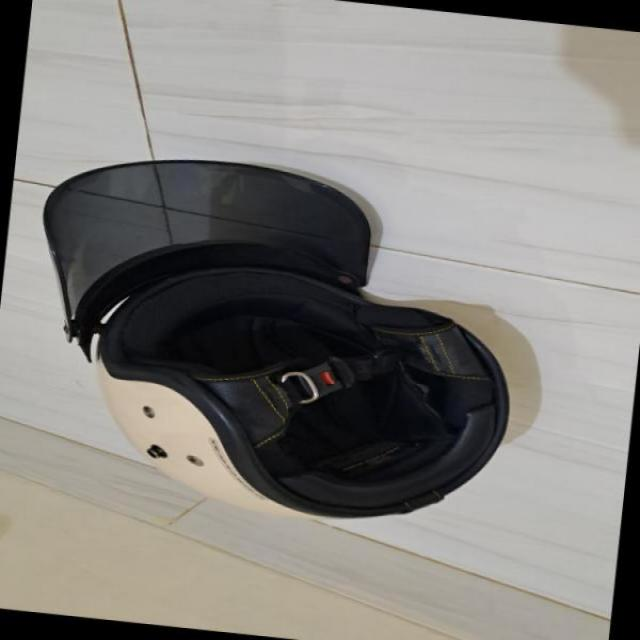Helmet: (29, 169, 516, 516)
